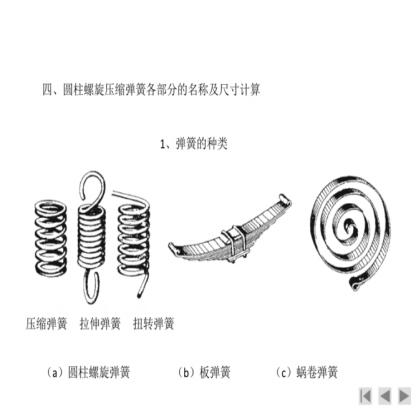FOD: (307, 172, 392, 293), (166, 190, 293, 268), (75, 166, 108, 307), (111, 180, 151, 296), (35, 197, 67, 281)
